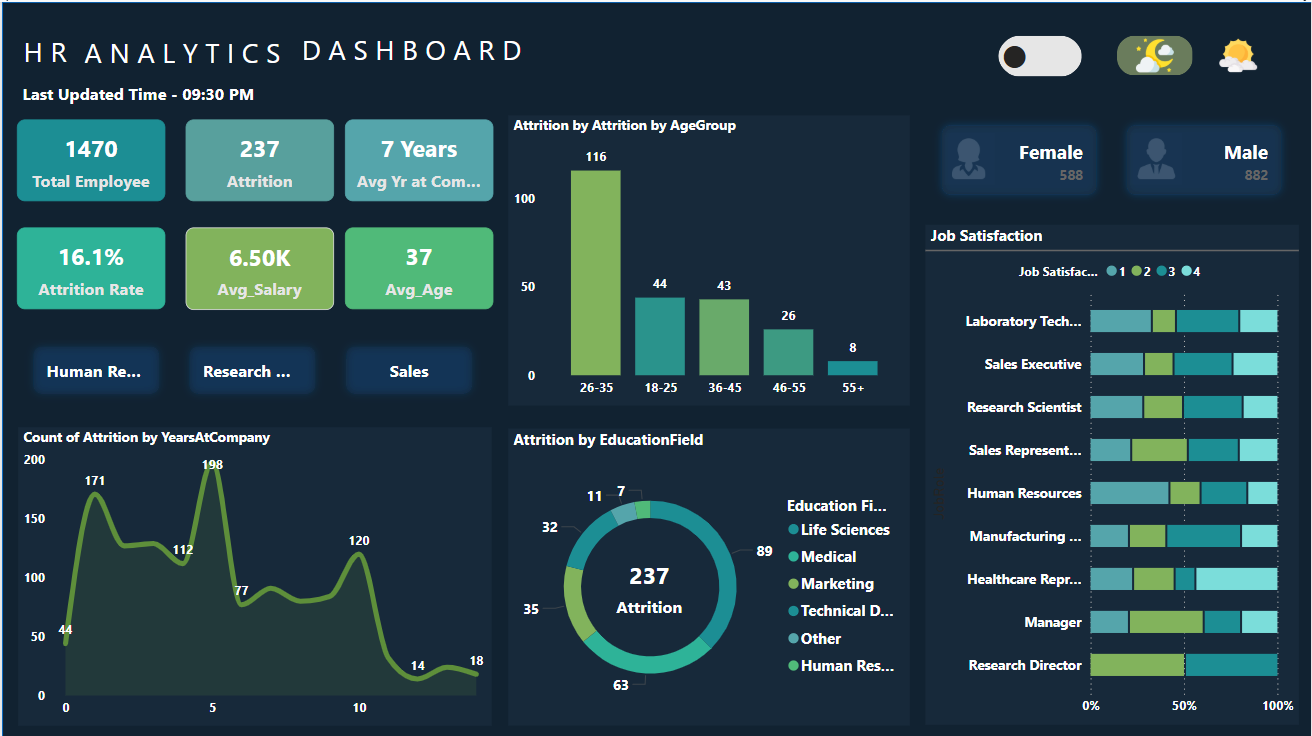

What the dashboard file says about the page in this screenshot:
{"tool":"powerbi","page":{"name":"Page 1","canvas":[1280,720],"ordinal":0},"visuals":[{"type":"shape","box":[0,0,1280.9,719.6],"z":0},{"type":"shape","box":[21.3,19.2,68.3,57.6],"z":0,"group":"g1"},{"type":"shape","box":[80.2,21.6,219.1,55.4],"z":1000,"group":"g1"},{"type":"image","box":[920.2,127.5,50,50],"z":1000},{"type":"shape","box":[292.8,17.6,269.3,58.1],"z":2000,"group":"g1"},{"type":"image","box":[1103.5,128.4,50,50],"z":2000},{"type":"card","fields":{"Values":["HR_Analytics.Employee_Attrition"]},"box":[179.3,115.3,145.1,80],"z":3000},{"type":"card","fields":{"Values":["HR_Analytics.Employee_Count"]},"box":[14.9,115.3,145.1,80],"z":4000},{"type":"card","fields":{"Values":["HR_Analytics.Years_With_Text"]},"box":[335.1,115.3,145,80],"z":5000},{"type":"card","fields":{"Values":["HR_Analytics.Attrition%"]},"box":[14.9,219.8,145.1,80],"z":6000},{"type":"card","fields":{"Values":["HR_Analytics.Avg_Salary"]},"box":[180,220.1,145,80.9],"z":7000},{"type":"card","fields":{"Values":["HR_Analytics.Avg_Age"]},"box":[335.1,219.8,145,80],"z":8000},{"type":"areaChart","fields":{"Y":["CountNonNull(HR_Analytics.Attrition)"],"Category":["HR_Analytics.YearsAtCompany"]},"box":[15.8,415.2,462.7,292.1],"z":9000},{"type":"donutChart","title":"Attrition by EducationField","fields":{"Y":["HR_Analytics.Employee_Attrition"],"Category":["HR_Analytics.EducationField"]},"box":[494.4,417,392.4,290.3],"z":10000},{"type":"clusteredColumnChart","title":"Attrition by Attrition by AgeGroup","fields":{"Category":["HR_Analytics.AgeGroup"],"Y":["HR_Analytics.Employee_Attrition"]},"box":[495.2,111,392.7,283.9],"z":11000},{"type":"hundredPercentStackedBarChart","title":"Job Satisfaction","fields":{"Y":["HR_Analytics.Employee_Attrition"],"Series":["HR_Analytics.JobSatisfaction"],"Category":["HR_Analytics.JobRole"]},"box":[902.9,217.7,365,488.8],"z":12000},{"type":"advancedSlicerVisual","fields":{"Values":["HR_Analytics.Gender"]},"box":[902.9,104.6,365,100.3],"z":13000},{"type":"advancedSlicerVisual","fields":{"Values":["HR_Analytics.Department"]},"box":[14.9,320.2,463.2,79],"z":14000},{"type":"advancedSlicerVisual","fields":{"Values":["Dark-Mode.Mode"]},"box":[1085.6,28.2,167.1,49.3],"z":15000},{"type":"group","id":"g1","title":"Group 1","box":[21.3,17.6,540.7,59.4],"z":16000},{"type":"card","fields":{"Values":["HR_Analytics.Employee_Attrition"]},"box":[584.8,537.9,96,69],"z":17000},{"type":"advancedSlicerVisual","fields":{"Values":["DarkMode_AutoSet.MODE"]},"box":[968.9,27.7,92.4,50.2],"z":18000},{"type":"card","fields":{"Values":["DarkMode_AutoSet.LastRefreshedTime"]},"box":[1.8,77.4,263.9,26.4],"z":19000}]}

Visuals, with their boxes in screenshot pixels (x1, y1, x2, y2), scaled from the page's 1280x720 canvas onto the 1312x736 screenshot:
shape: <region>0, 0, 1311, 735</region>
shape: <region>22, 20, 92, 79</region>
shape: <region>82, 22, 307, 79</region>
image: <region>943, 130, 994, 181</region>
shape: <region>300, 18, 576, 77</region>
image: <region>1131, 131, 1182, 182</region>
card - HR_Analytics.Employee_Attrition: <region>184, 118, 333, 200</region>
card - HR_Analytics.Employee_Count: <region>15, 118, 164, 200</region>
card - HR_Analytics.Years_With_Text: <region>343, 118, 492, 200</region>
card - HR_Analytics.Attrition%: <region>15, 225, 164, 306</region>
card - HR_Analytics.Avg_Salary: <region>184, 225, 333, 308</region>
card - HR_Analytics.Avg_Age: <region>343, 225, 492, 306</region>
areaChart - CountNonNull(HR_Analytics.Attrition) x HR_Analytics.YearsAtCompany: <region>16, 424, 490, 723</region>
"Attrition by EducationField" donutChart: <region>507, 426, 909, 723</region>
"Attrition by Attrition by AgeGroup" clusteredColumnChart: <region>508, 113, 910, 404</region>
"Job Satisfaction" hundredPercentStackedBarChart: <region>925, 223, 1300, 722</region>
advancedSlicerVisual - HR_Analytics.Gender: <region>925, 107, 1300, 209</region>
advancedSlicerVisual - HR_Analytics.Department: <region>15, 327, 490, 408</region>
advancedSlicerVisual - Dark-Mode.Mode: <region>1113, 29, 1284, 79</region>
"Group 1" group: <region>22, 18, 576, 79</region>
card - HR_Analytics.Employee_Attrition: <region>599, 550, 698, 620</region>
advancedSlicerVisual - DarkMode_AutoSet.MODE: <region>993, 28, 1088, 80</region>
card - DarkMode_AutoSet.LastRefreshedTime: <region>2, 79, 272, 106</region>
